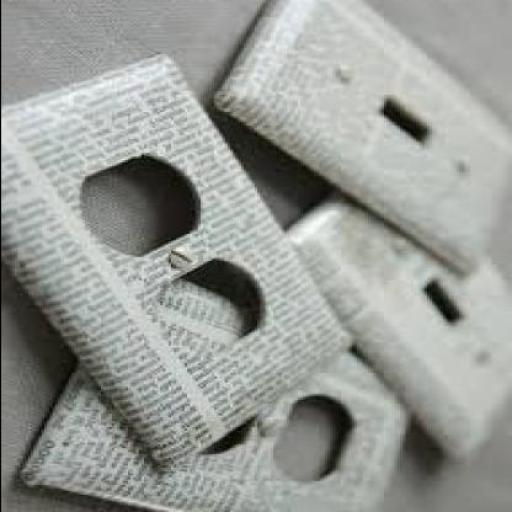paper: (3, 54, 358, 470), (25, 279, 412, 511), (216, 2, 509, 280), (286, 191, 510, 458)
